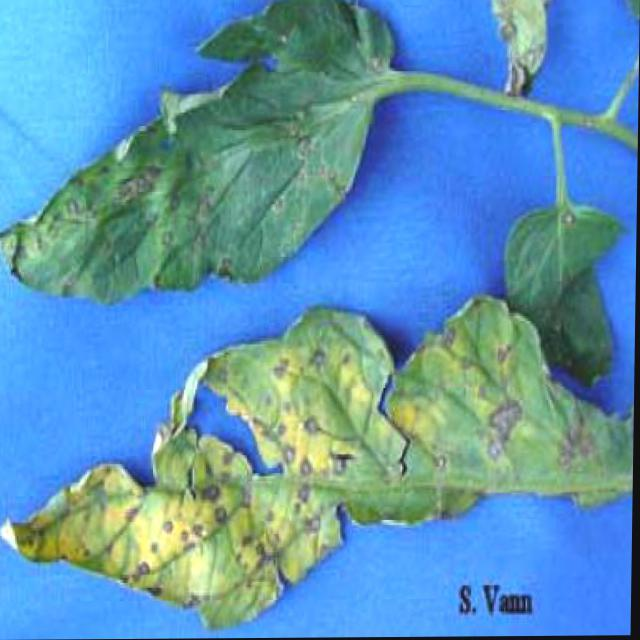Tomato late blight leaf: (0, 290, 635, 638), (1, 0, 411, 332)
